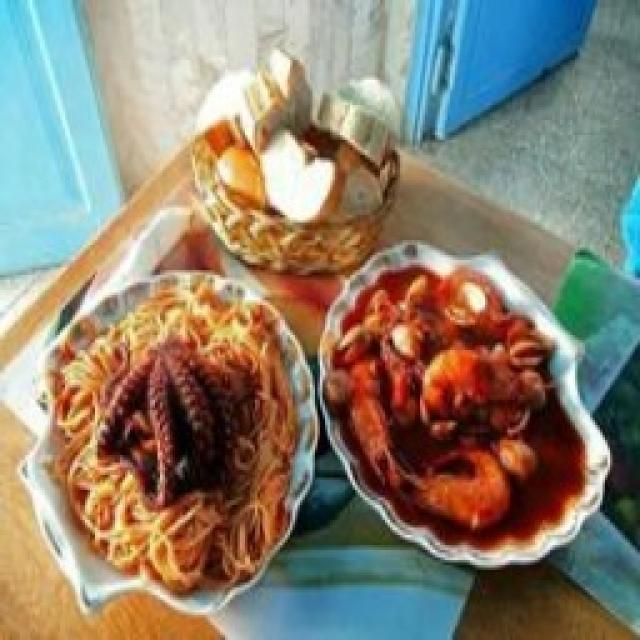Pasta: (45, 272, 320, 615)
